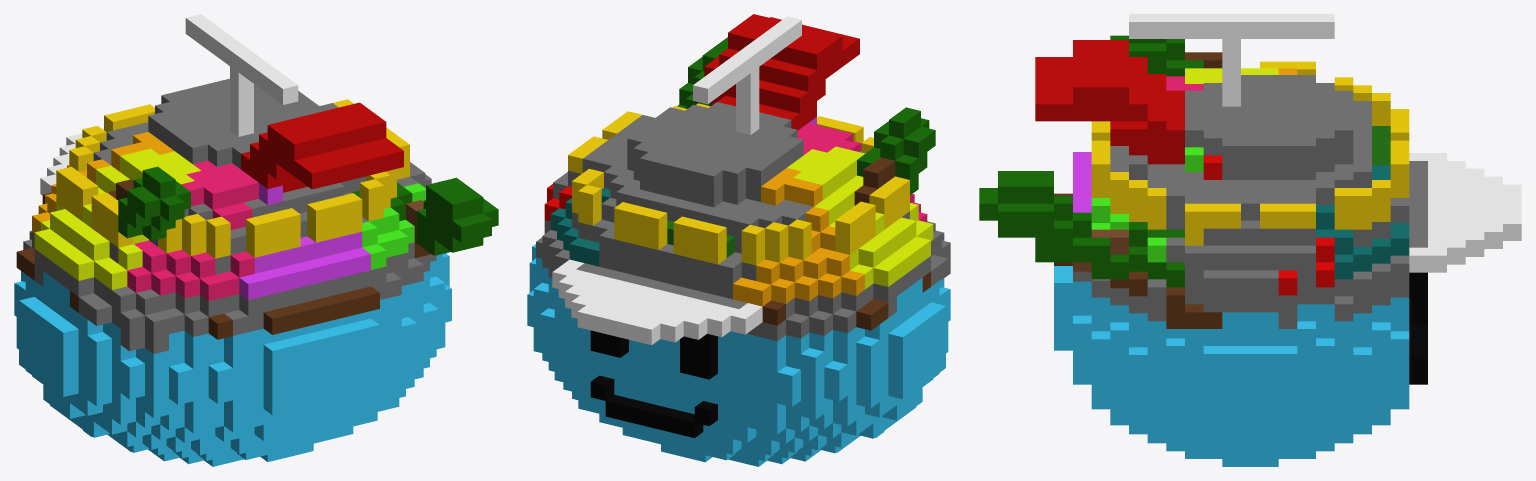
Rendered from slime.gltf.
3 renders of one model, left to right at view 1: azimuth 30°, elevation 25°; view 2: azimuth 150°, elevation 25°; view 3: azimuth 270°, elevation 25°, orthographic. The views are drawn at different scales.
Parts seen in each view (by area): view 1: Layer.1, Layer.2, Layer.4, Layer.3, Layer.5; view 2: Layer.1, Layer.2, Layer.4, Layer.5, Layer.3, Layer.6; view 3: Layer.2, Layer.1, Layer.4, Layer.3, Layer.5, Layer.6.
Part boxes in pixels (left/top/right/bottom): Layer.1: left=14, top=253, right=451, bottom=466; Layer.2: left=23, top=78, right=436, bottom=353; Layer.4: left=32, top=14, right=425, bottom=300; Layer.3: left=16, top=166, right=498, bottom=339; Layer.5: left=56, top=99, right=409, bottom=258; Layer.1: left=527, top=244, right=950, bottom=466; Layer.2: left=536, top=14, right=950, bottom=341; Layer.4: left=544, top=16, right=933, bottom=345; Layer.5: left=568, top=103, right=909, bottom=400; Layer.3: left=677, top=37, right=935, bottom=330; Layer.6: left=605, top=394, right=717, bottom=437; Layer.2: left=1035, top=40, right=1427, bottom=328; Layer.1: left=1054, top=266, right=1427, bottom=466; Layer.4: left=1073, top=14, right=1521, bottom=295; Layer.3: left=979, top=35, right=1222, bottom=328; Layer.5: left=1091, top=61, right=1427, bottom=375; Layer.6: left=1409, top=324, right=1427, bottom=384.
Bounding box in the file's own units: 25 × 24 × 29.
1 material, 1 textured.
